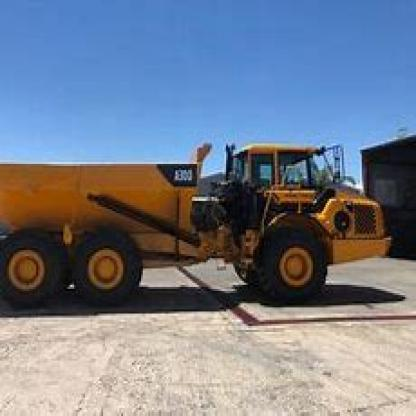dump_truck: (3, 129, 389, 310)
